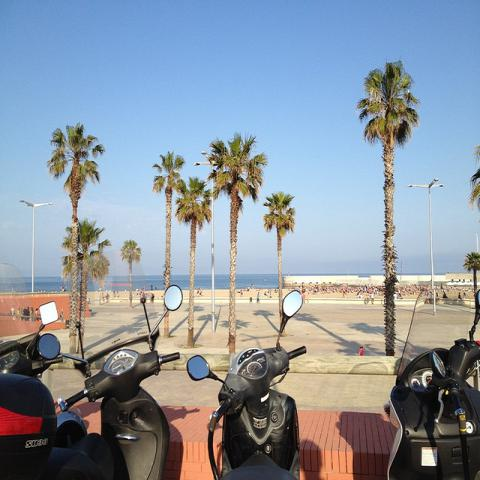motorcycle: (0, 280, 189, 472), (184, 289, 307, 475), (382, 288, 480, 476)
